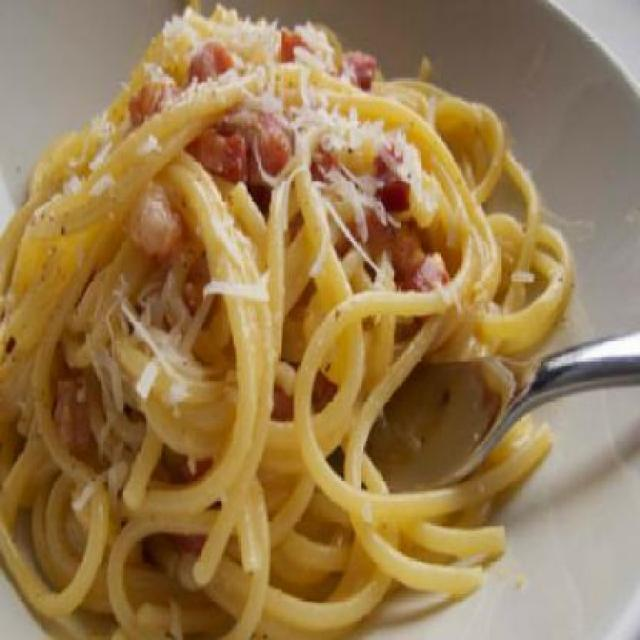Pasta with carbonara sauce: (33, 25, 556, 610)
